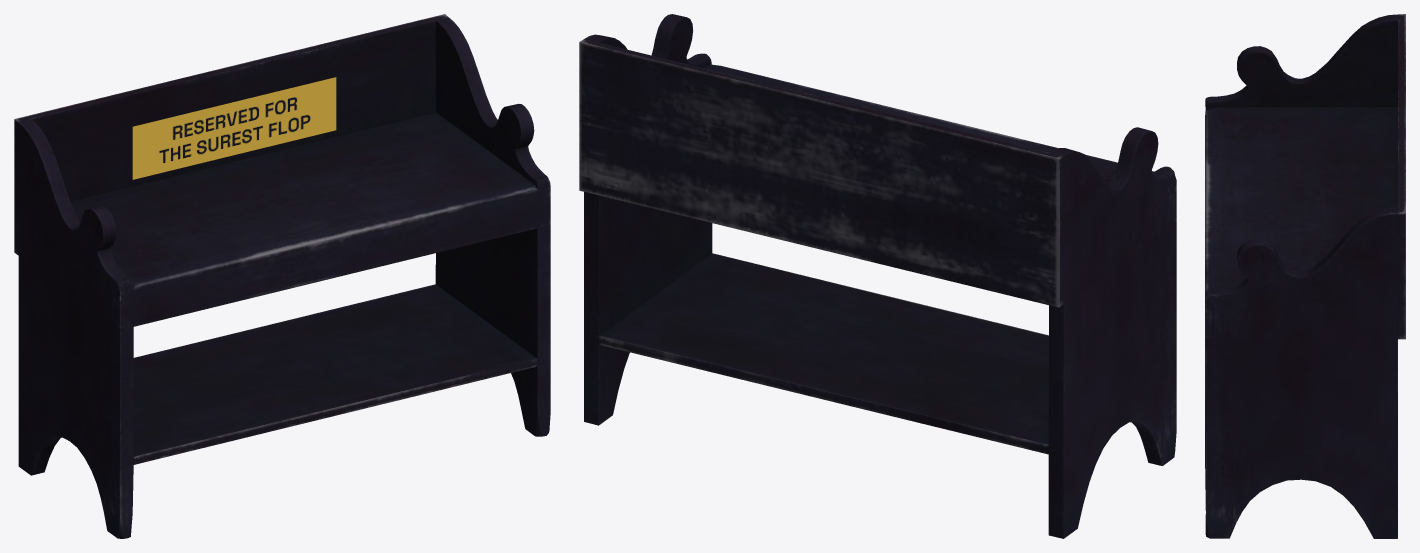
File: nyb_producers_bench.glb
3 renders of one model, left to right at view 1: azimuth 30°, elevation 25°; view 2: azimuth 150°, elevation 25°; view 3: azimuth 270°, elevation 25°, orthographic. The views are drawn at different scales.
Parts seen in each view (by area): view 1: painted_wooden_bench, stk_lbl_98671f4adf.png; view 2: painted_wooden_bench; view 3: painted_wooden_bench.
Boxes of the visible parts, x1=… form: painted_wooden_bench: x1=14, y1=14, x2=550, y2=538; stk_lbl_98671f4adf.png: x1=132, y1=77, x2=336, y2=179; painted_wooden_bench: x1=579, y1=14, x2=1176, y2=538; painted_wooden_bench: x1=1205, y1=14, x2=1405, y2=538.
Bounding box in the file's own units: 1.16 × 0.8893 × 0.4965.
2 materials, 2 textured.
